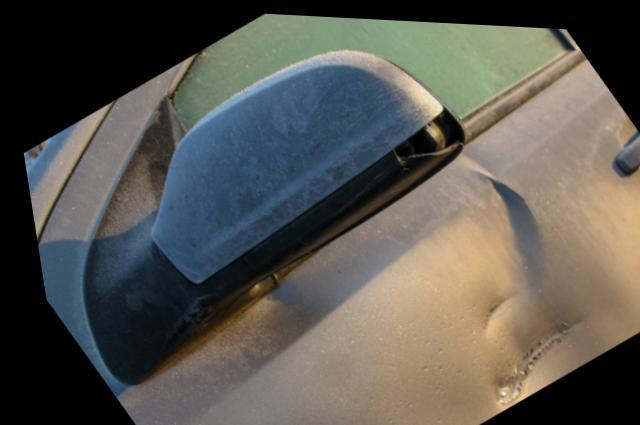dent: (393, 191, 621, 425)
